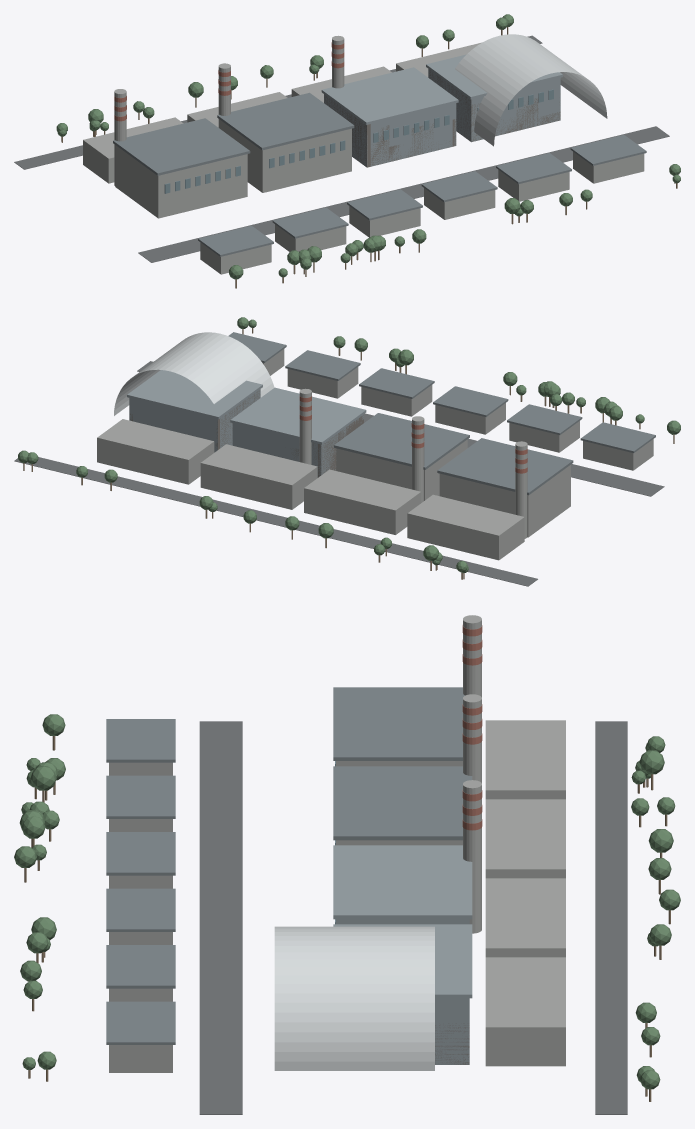
The model's file is chernobyl-complex.glb.
The picture shows the model from 3 angles, top to bottom: view 1: azimuth 30°, elevation 25°; view 2: azimuth 150°, elevation 25°; view 3: azimuth 270°, elevation 25°; orthographic projection. The views are drawn at different scales.
Parts seen in each view (by area): view 1: Body, Unit2, Arch, Unit1, Unit2_Ruin, Unit1_Ruin, Windows, Unit2_Win; view 2: Body, Unit2, Unit1, Arch, Unit2_Ruin, Unit1_Ruin; view 3: Body, Arch, Unit2, Unit1.
Part boxes in pixels (box(x1,y1,x2,y2)): Body: box(14, 14, 680, 288); Unit2: box(321, 67, 458, 167); Arch: box(455, 34, 607, 146); Unit1: box(426, 54, 562, 142); Unit2_Ruin: box(324, 94, 456, 167); Unit1_Ruin: box(429, 70, 560, 141); Windows: box(164, 140, 345, 193); Unit2_Win: box(373, 115, 449, 142); Body: box(14, 317, 680, 586); Unit2: box(230, 387, 366, 477); Unit1: box(127, 370, 262, 452); Arch: box(114, 332, 274, 415); Unit2_Ruin: box(291, 415, 363, 477); Unit1_Ruin: box(130, 390, 260, 449); Body: box(14, 615, 680, 1114); Arch: box(274, 926, 434, 1070); Unit2: box(333, 845, 472, 924); Unit1: box(333, 924, 472, 1064).
Bounding box in the file's own units: 174 × 30 × 125.
